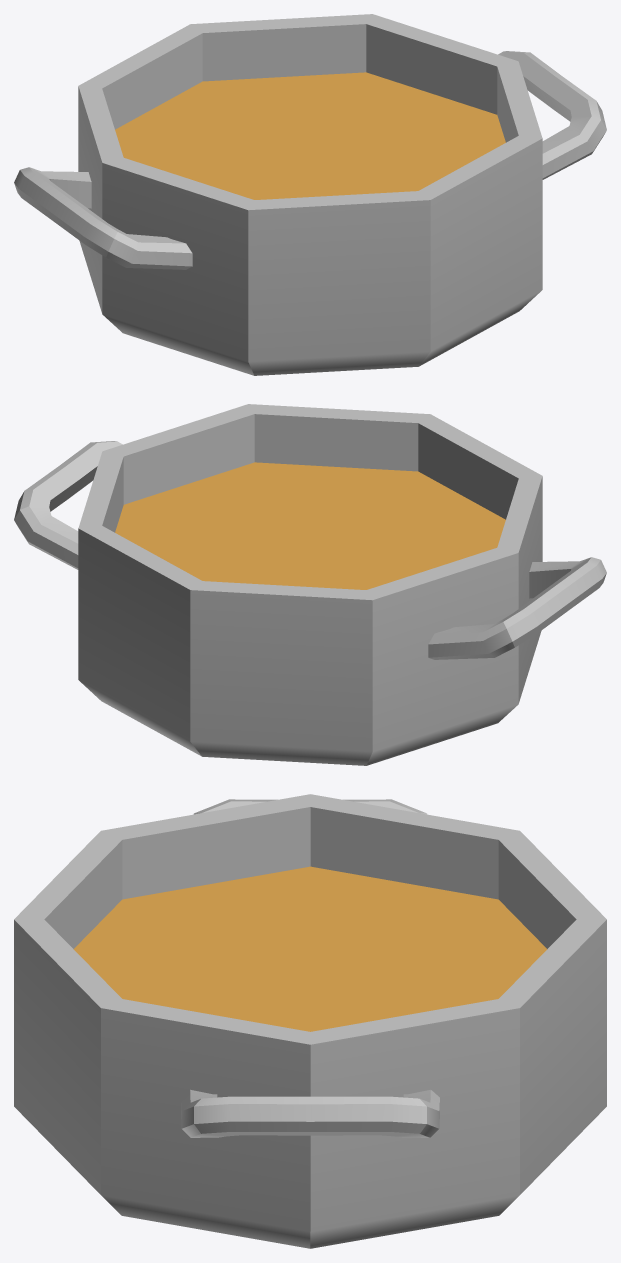
File: SmallPotFull.fbx
The picture shows the model from 3 angles, top to bottom: view 1: azimuth 30°, elevation 25°; view 2: azimuth 150°, elevation 25°; view 3: azimuth 270°, elevation 25°; orthographic projection. The views are drawn at different scales.
Visible parts, largest first — view 1: SmallPotFull; view 2: SmallPotFull; view 3: SmallPotFull.
Boxes of the visible parts, x1=… form: SmallPotFull: x1=14, y1=14, x2=606, y2=375; SmallPotFull: x1=14, y1=404, x2=606, y2=765; SmallPotFull: x1=14, y1=794, x2=606, y2=1248.
Bounding box in the file's own units: 55.21 × 17.88 × 44.38.
